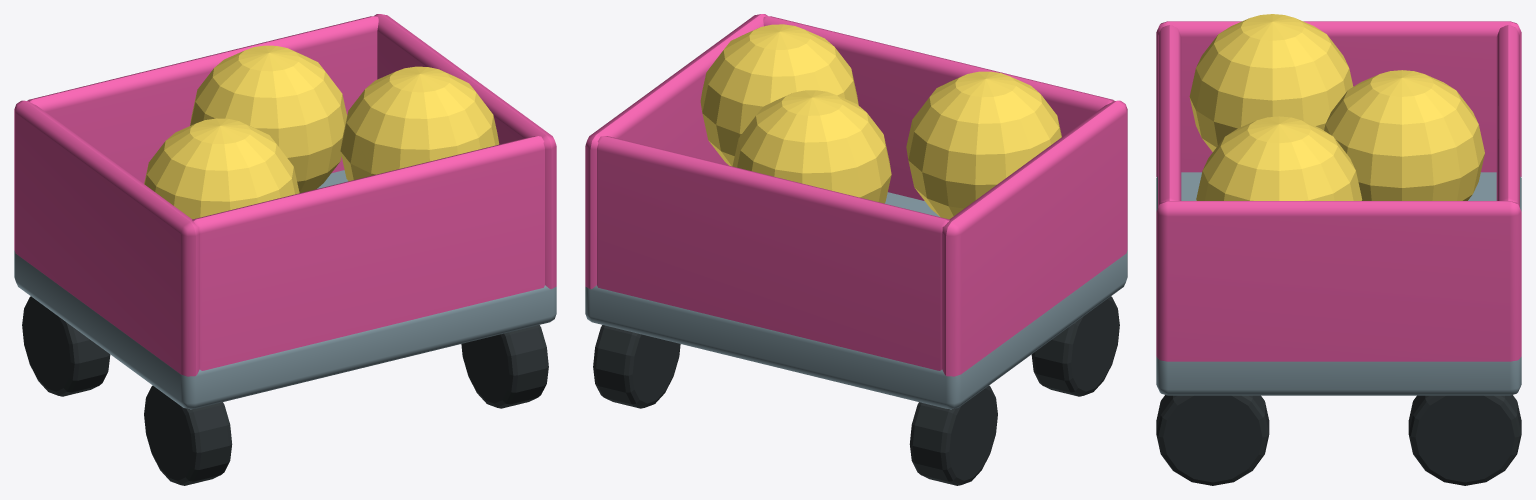
The model's file is cart.glb.
The picture shows the model from 3 angles, left to right: view 1: azimuth 30°, elevation 25°; view 2: azimuth 150°, elevation 25°; view 3: azimuth 270°, elevation 25°; orthographic projection. The views are drawn at different scales.
Parts seen in each view (by area): view 1: Cart ends, Cart sides, Market cart bed, Cart ends.001, Oversized citrus.001, Oversized citrus.002, Oversized citrus, Cart sides.001, Caster, Caster.002, Caster.001; view 2: Cart ends.001, Cart sides, Market cart bed, Oversized citrus, Oversized citrus.001, Cart ends, Oversized citrus.002, Cart sides.001, Caster.001, Caster.003, Caster; view 3: Cart sides.001, Oversized citrus.001, Cart sides, Oversized citrus, Market cart bed, Oversized citrus.002, Caster.002, Caster.003, Cart ends, Cart ends.001.
Boxes of the visible parts, x1,y1,x2,y2 form: Cart ends: [192, 136, 544, 370]; Cart sides: [14, 100, 199, 376]; Market cart bed: [14, 170, 556, 409]; Cart ends.001: [27, 16, 378, 183]; Oversized citrus.001: [190, 45, 347, 192]; Oversized citrus.002: [340, 66, 499, 181]; Oversized citrus: [144, 118, 299, 219]; Cart sides.001: [374, 14, 556, 289]; Caster: [144, 385, 232, 485]; Caster.002: [461, 325, 548, 408]; Caster.001: [22, 296, 110, 396]; Cart ends.001: [597, 136, 949, 370]; Cart sides: [942, 100, 1127, 376]; Market cart bed: [585, 192, 1127, 409]; Oversized citrus: [906, 71, 1061, 219]; Oversized citrus.001: [732, 90, 891, 203]; Cart ends: [763, 16, 1114, 200]; Oversized citrus.002: [700, 24, 858, 166]; Cart sides.001: [585, 14, 767, 289]; Caster.001: [909, 385, 997, 485]; Caster.003: [593, 325, 680, 408]; Caster: [1031, 296, 1119, 396]; Cart sides.001: [1156, 201, 1521, 361]; Oversized citrus.001: [1324, 70, 1484, 200]; Cart sides: [1156, 21, 1521, 176]; Oversized citrus: [1189, 14, 1353, 151]; Market cart bed: [1156, 172, 1521, 395]; Oversized citrus.002: [1196, 116, 1362, 200]; Caster.002: [1156, 395, 1269, 485]; Caster.003: [1408, 395, 1521, 485]; Cart ends: [1158, 25, 1181, 207]; Cart ends.001: [1496, 25, 1519, 207].
Size of the model in its own units: 1.35 by 1.09 by 1.1.
